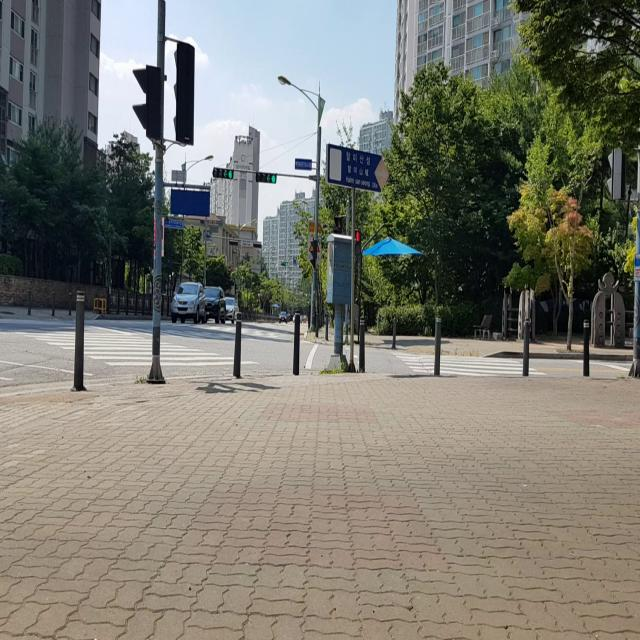빨간불: (332, 216, 344, 234), (355, 228, 361, 255)
횡단보도: (3, 321, 260, 376), (387, 348, 548, 378)
